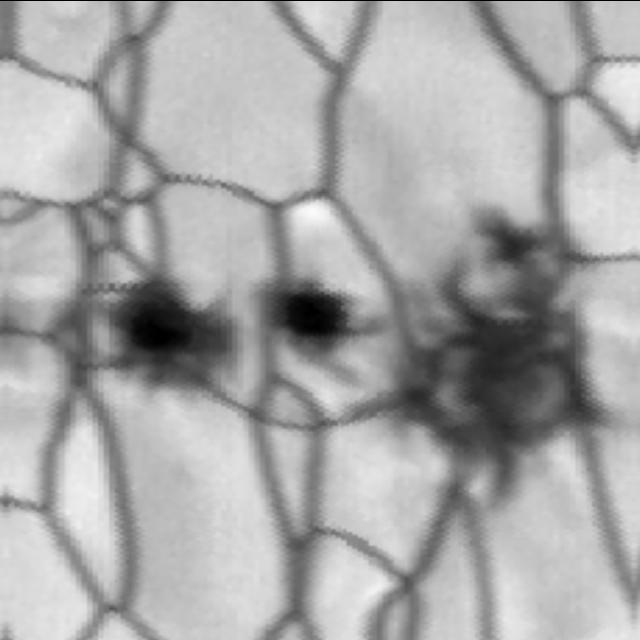good_void: (392, 195, 605, 504), (103, 273, 236, 401), (274, 265, 378, 362)
